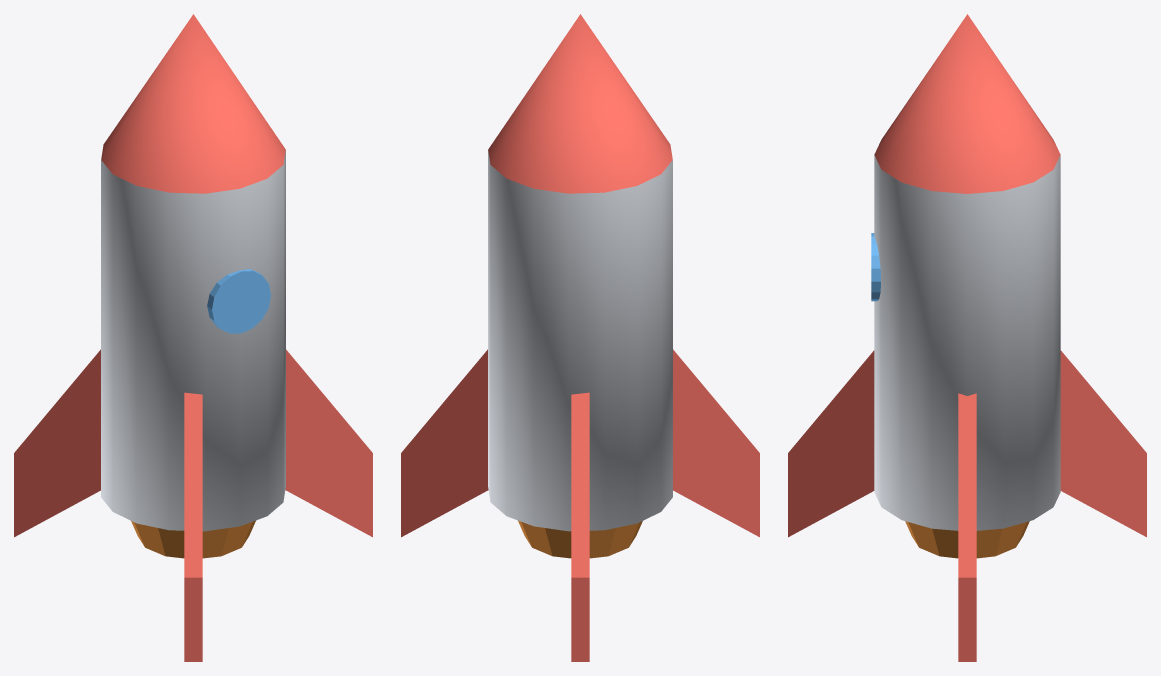
File: Prop_Space_Rocket.fbx
3 renders of one model, left to right at view 1: azimuth 30°, elevation 25°; view 2: azimuth 150°, elevation 25°; view 3: azimuth 270°, elevation 25°, orthographic.
Parts seen in each view (by area): view 1: Prop_Space_Rocket; view 2: Prop_Space_Rocket; view 3: Prop_Space_Rocket.
Part boxes in pixels (x1,y1,x2,y2): Prop_Space_Rocket: (14, 14, 372, 661); Prop_Space_Rocket: (401, 14, 759, 661); Prop_Space_Rocket: (788, 14, 1146, 661).
Bounding box in the file's own units: 1 × 2 × 1.16.
